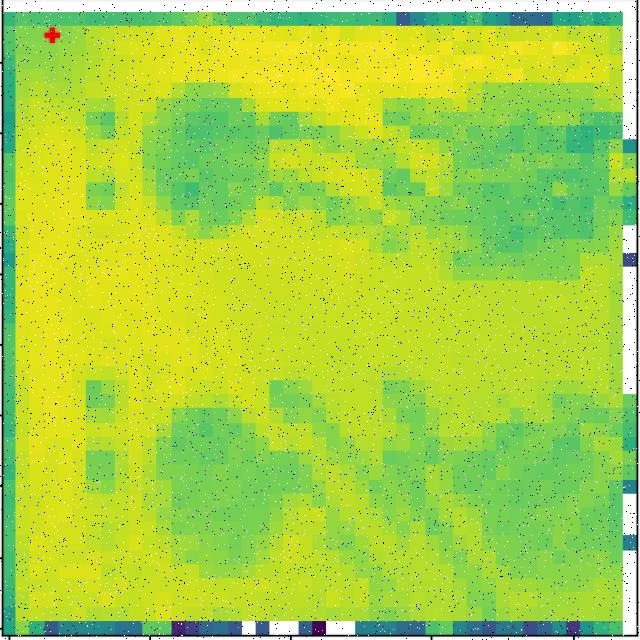Concrete: (410, 369, 627, 614)
Glass: (136, 380, 308, 596)
Metal: (391, 59, 616, 304)
Wood: (140, 72, 277, 246)
